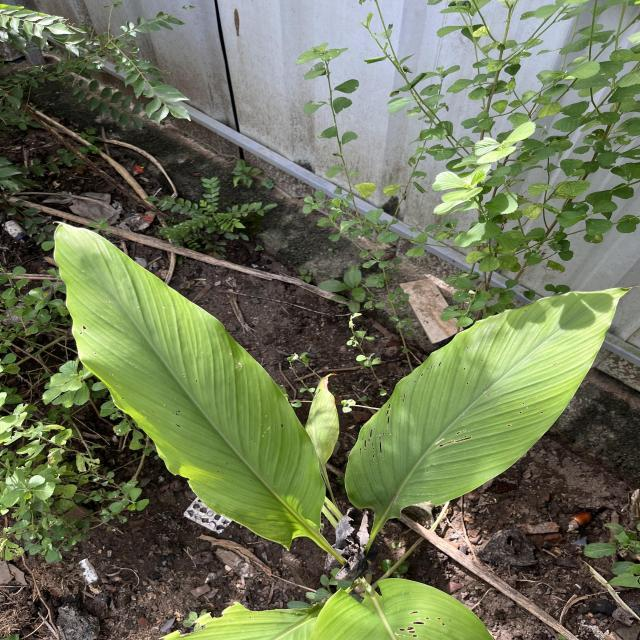Curcuma longa: (50, 218, 330, 553), (341, 282, 640, 526)
